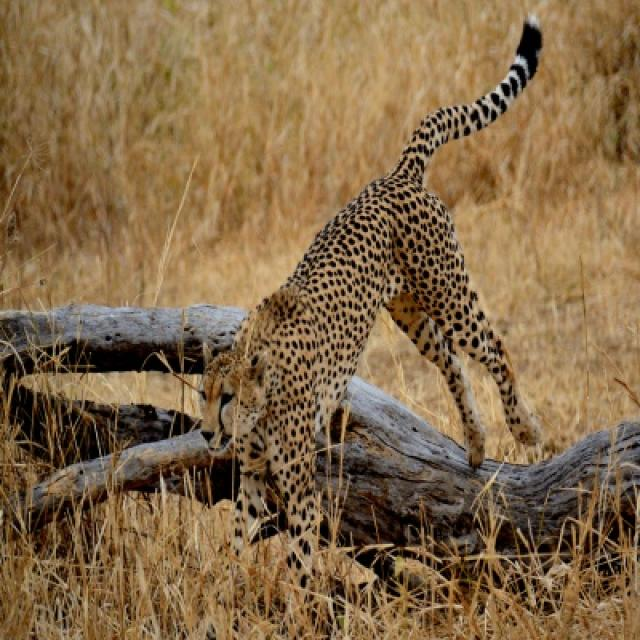Cheetah: (205, 21, 541, 566)
